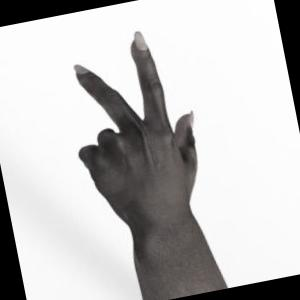scissors: (74, 31, 227, 300)
